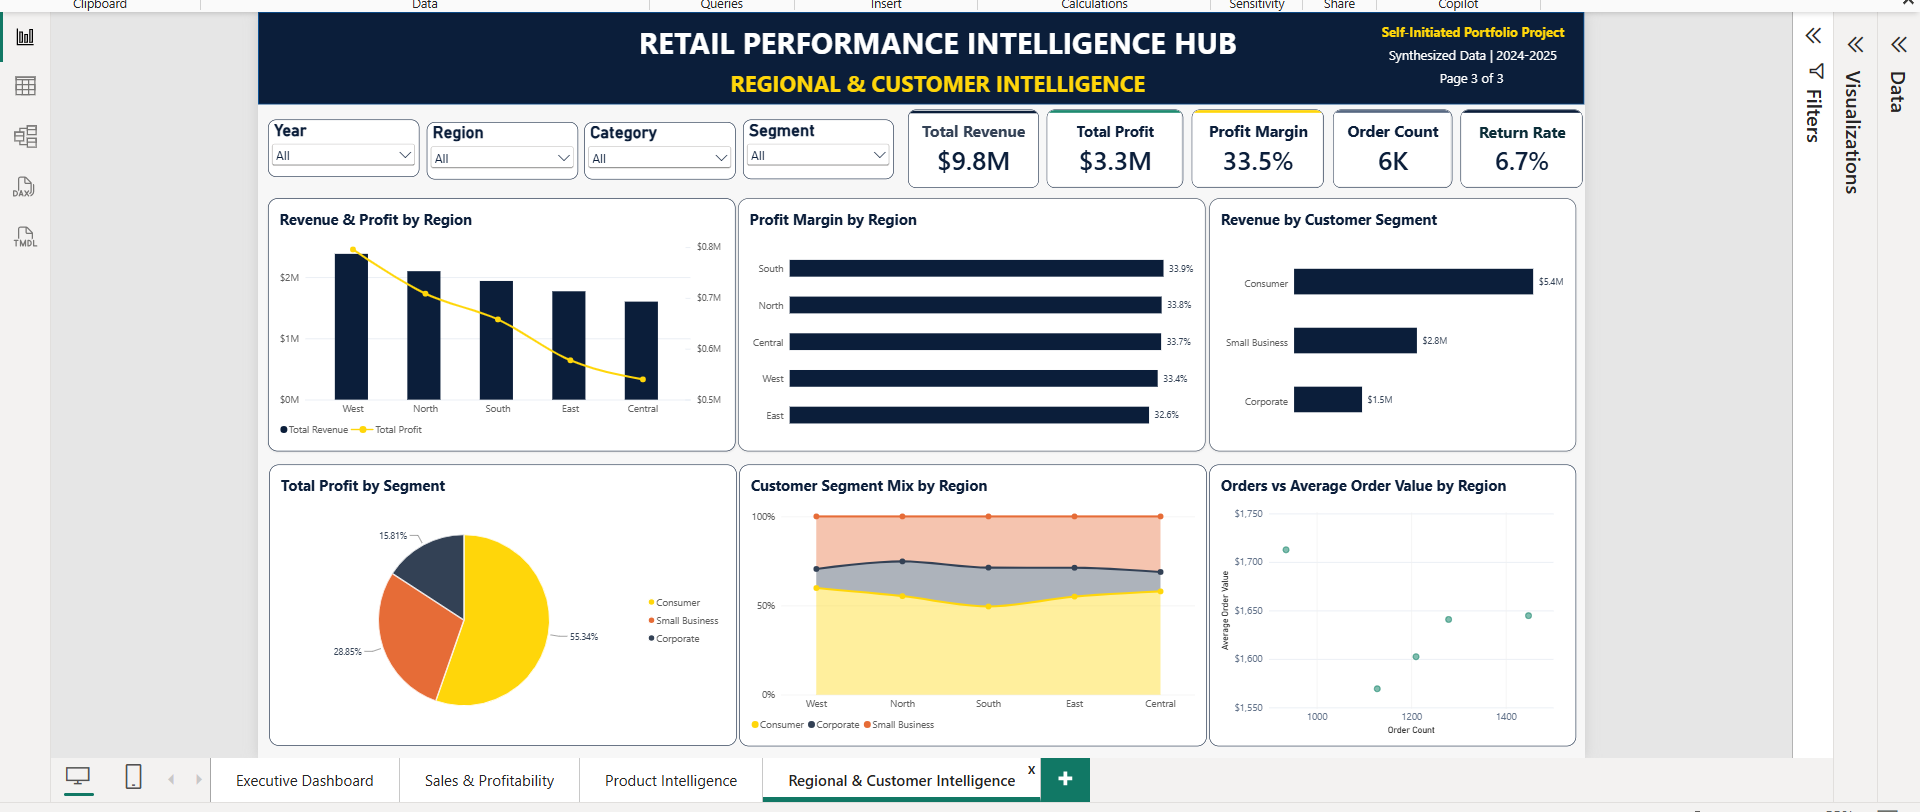

Layout of this report page (visuals, bound fields, positions):
{"tool":"powerbi","page":{"name":"Regional & Customer Intelligence","canvas":[1920,1080],"ordinal":3},"visuals":[{"type":"shape","box":[0,0,1920.1,133.9],"z":0},{"type":"textbox","box":[515.8,14.5,937.4,67],"z":1},{"type":"textbox","box":[515.8,81.4,937.4,67],"z":2},{"type":"textbox","box":[1597.9,16.3,322.1,32.6],"z":3},{"type":"textbox","box":[1597.9,48.9,322.1,32.6],"z":4},{"type":"textbox","box":[1596.9,83.1,322.1,32.6],"z":5},{"type":"slicer","fields":{"Values":["Date.Year"]},"box":[14.4,156.4,219,83.2],"z":6},{"type":"slicer","fields":{"Values":["Orders.Region"]},"box":[243.6,158.5,219,83.2],"z":7},{"type":"slicer","fields":{"Values":["Orders.Category"]},"box":[472.7,158.5,219,83.2],"z":8},{"type":"slicer","fields":{"Values":["Orders.Segment"]},"box":[701.9,156.4,218.2,86.4],"z":9},{"type":"cardVisual","fields":{"Data":["Orders.Total Revenue"]},"box":[940.7,142,189.4,113.2],"z":10},{"type":"cardVisual","fields":{"Data":["Orders.Total Profit"]},"box":[1142.4,142,197.6,113.2],"z":11},{"type":"cardVisual","fields":{"Data":["Orders.Profit Margin"]},"box":[1352.3,142,191.4,113.2],"z":12},{"type":"cardVisual","fields":{"Data":["Orders.Order Count"]},"box":[1556.1,142,172.9,113.2],"z":13},{"type":"cardVisual","fields":{"Data":["Orders.Return Rate"]},"box":[1741.3,142,177,113.2],"z":14},{"type":"lineClusteredColumnComboChart","title":"Revenue & Profit by Region","fields":{"Category":["Customers.Region"],"Y":["Orders.Total Revenue"],"Y2":["Orders.Total Profit"]},"box":[14.4,269.6,677.2,366.4],"z":15},{"type":"clusteredBarChart","title":"Profit Margin by Region","fields":{"Category":["Orders.Region"],"Y":["Orders.Profit Margin"]},"box":[695.7,269.6,677.2,366.4],"z":16},{"type":"clusteredBarChart","title":"Revenue by Customer Segment","fields":{"Category":["Orders.Segment"],"Y":["Orders.Total Revenue"]},"box":[1377,269.6,531,366.4],"z":17},{"type":"pieChart","fields":{"Category":["Orders.Segment"],"Y":["Orders.Total Profit"]},"box":[16.5,654.5,677.2,407.5],"z":18},{"type":"hundredPercentStackedAreaChart","title":"Customer Segment Mix by Region","fields":{"Y":["Orders.Total Revenue"],"Category":["Orders.Region"],"Series":["Orders.Segment"]},"box":[696,655,677,408],"z":19},{"type":"scatterChart","title":"Orders vs Average Order Value by Region","fields":{"X":["Orders.Order Count"],"Y":["Orders.Average Order Value"],"Category":["Orders.Region"]},"box":[1377,655,531,408],"z":20}]}

Visuals, with their boxes on the page's 1920x1080 design canvas (x1, y1, x2, y2). These are canvas units, not pixel positions in the 1920x812 screenshot, which may show the page scaled, cropped or inside an application window:
shape: 0, 0, 1920, 134
textbox: 516, 14, 1453, 82
textbox: 516, 81, 1453, 148
textbox: 1598, 16, 1920, 49
textbox: 1598, 49, 1920, 82
textbox: 1597, 83, 1919, 116
slicer - Date.Year: 14, 156, 233, 240
slicer - Orders.Region: 244, 158, 463, 242
slicer - Orders.Category: 473, 158, 692, 242
slicer - Orders.Segment: 702, 156, 920, 243
cardVisual - Orders.Total Revenue: 941, 142, 1130, 255
cardVisual - Orders.Total Profit: 1142, 142, 1340, 255
cardVisual - Orders.Profit Margin: 1352, 142, 1544, 255
cardVisual - Orders.Order Count: 1556, 142, 1729, 255
cardVisual - Orders.Return Rate: 1741, 142, 1918, 255
"Revenue & Profit by Region" lineClusteredColumnComboChart: 14, 270, 692, 636
"Profit Margin by Region" clusteredBarChart: 696, 270, 1373, 636
"Revenue by Customer Segment" clusteredBarChart: 1377, 270, 1908, 636
pieChart - Orders.Segment x Orders.Total Profit: 16, 654, 694, 1062
"Customer Segment Mix by Region" hundredPercentStackedAreaChart: 696, 655, 1373, 1063
"Orders vs Average Order Value by Region" scatterChart: 1377, 655, 1908, 1063
